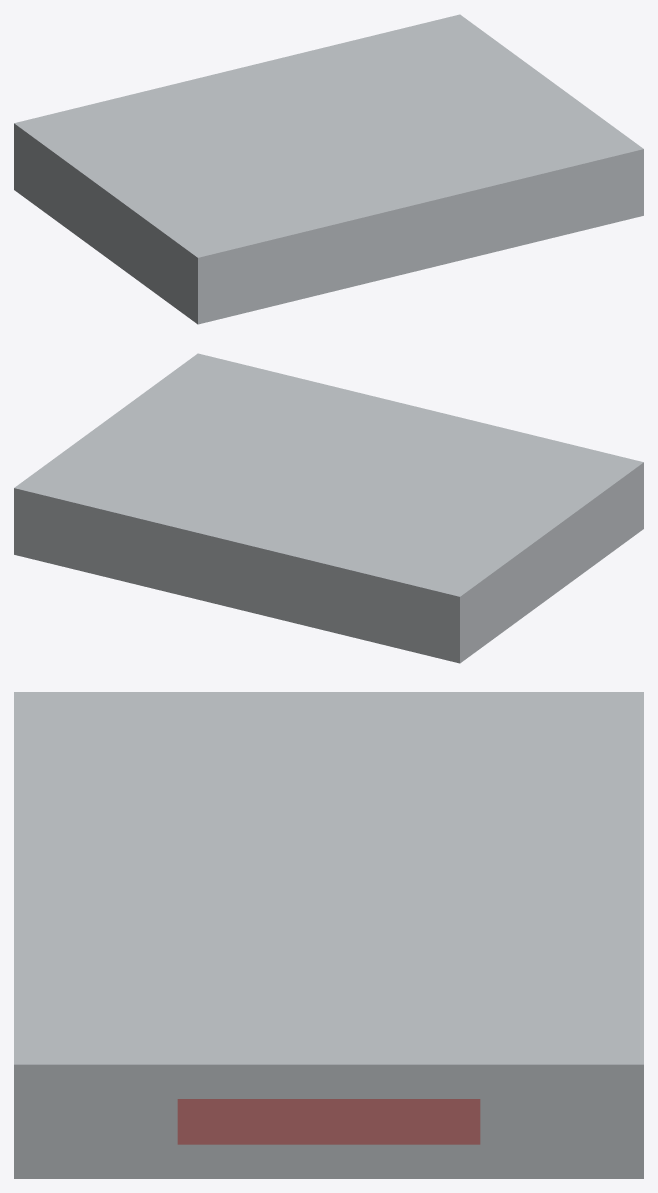
The model's file is step_02.glb.
3 views of the same model, one above another, from view 1: azimuth 30°, elevation 25°; view 2: azimuth 150°, elevation 25°; view 3: azimuth 270°, elevation 25° (orthographic). The views are drawn at different scales.
Parts seen in each view (by area): view 1: part__buckle body; view 2: part__buckle body; view 3: part__buckle body, removed__buckle body.
Boxes of the visible parts, x1,y1,x2,y2 form: part__buckle body: [14, 14, 643, 324]; part__buckle body: [14, 353, 643, 663]; part__buckle body: [14, 692, 643, 1178]; removed__buckle body: [177, 1099, 480, 1144].
Size of the model in its own units: 70 by 10 by 50.
